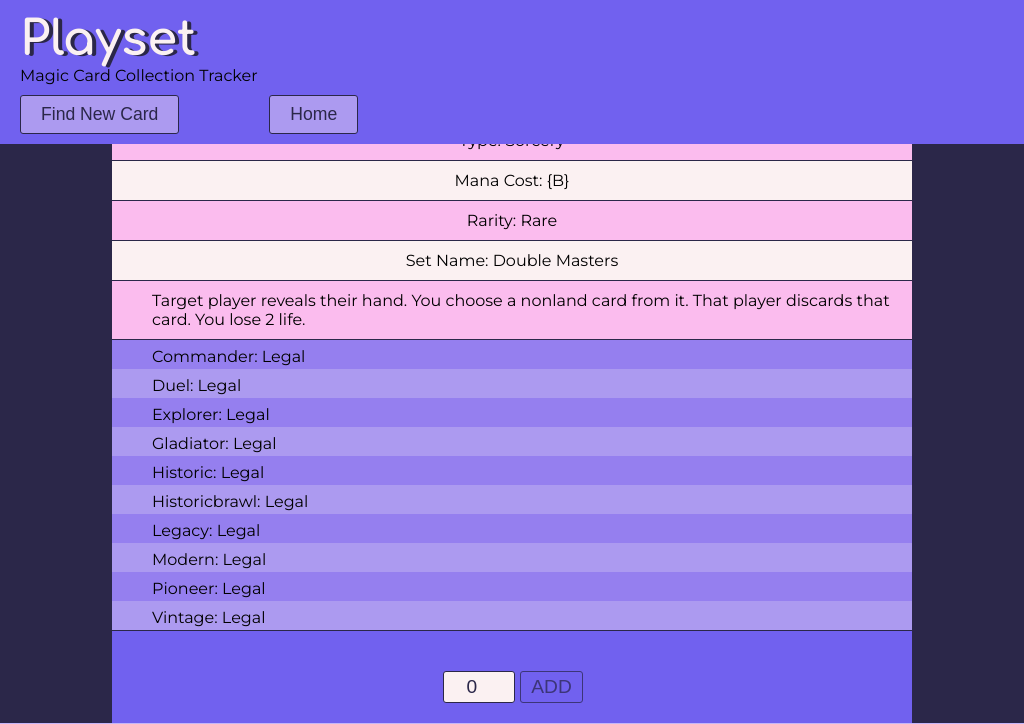
Test: Card details page › Should delete card from collection on card details page
The image size is (1024, 724).
(page scrolled)
Type "1" into the number field with class "add-card-input" at [479, 687], box [443,671,515,703]
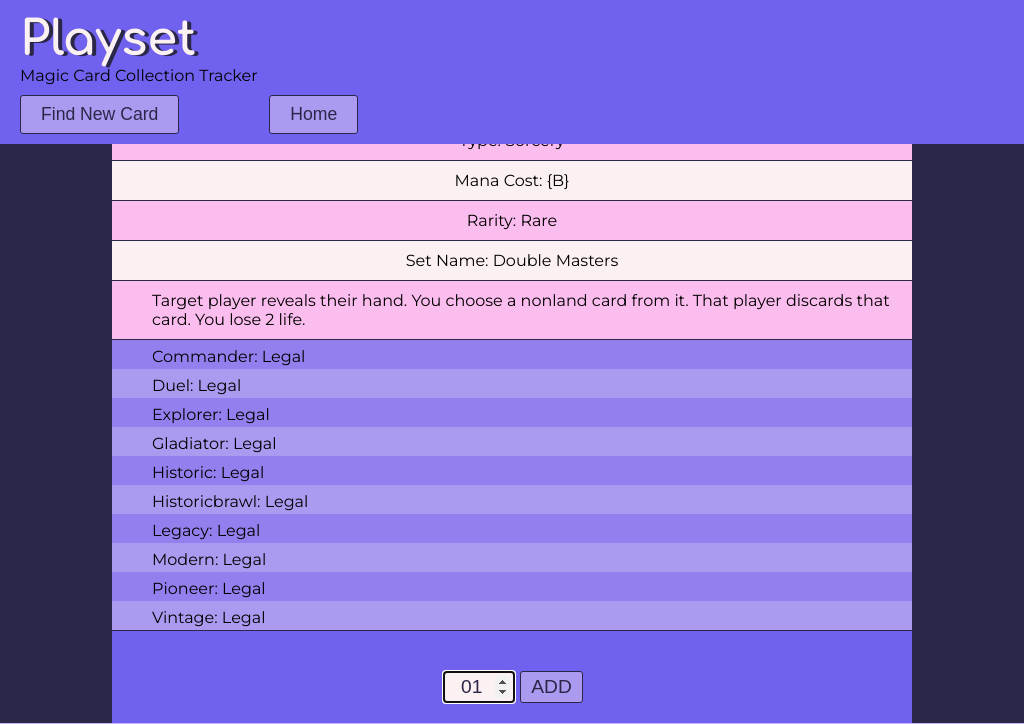
Click the button with class "add-card-btn" at [552, 687], box [520,671,583,703]
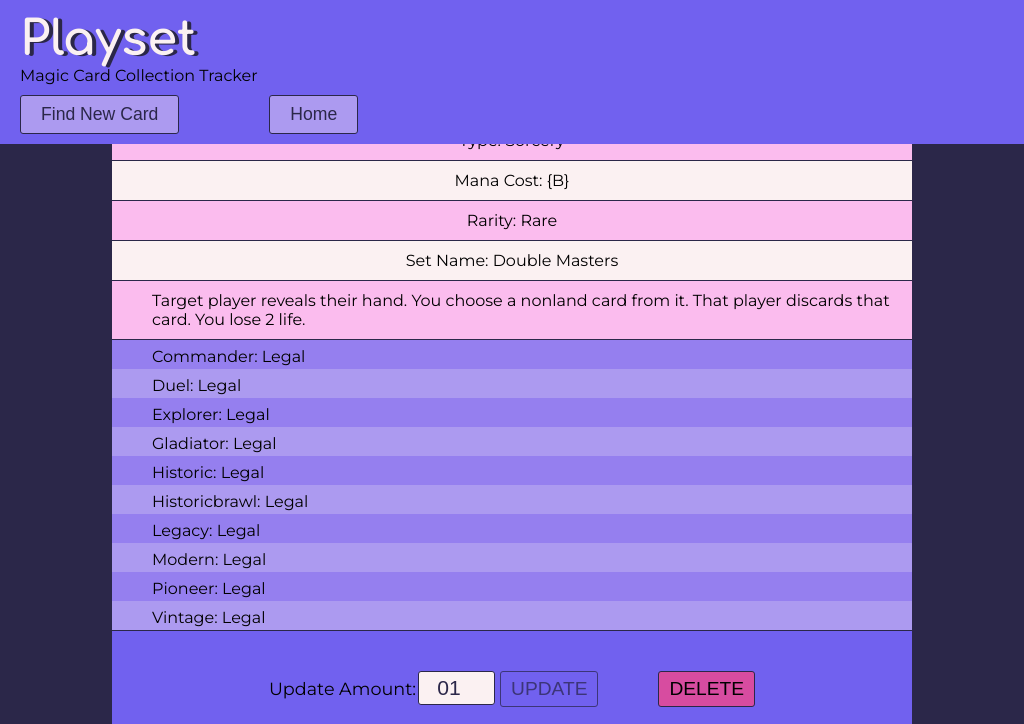
Click the button with class "delete-btn" at [707, 689], box [658,671,755,707]
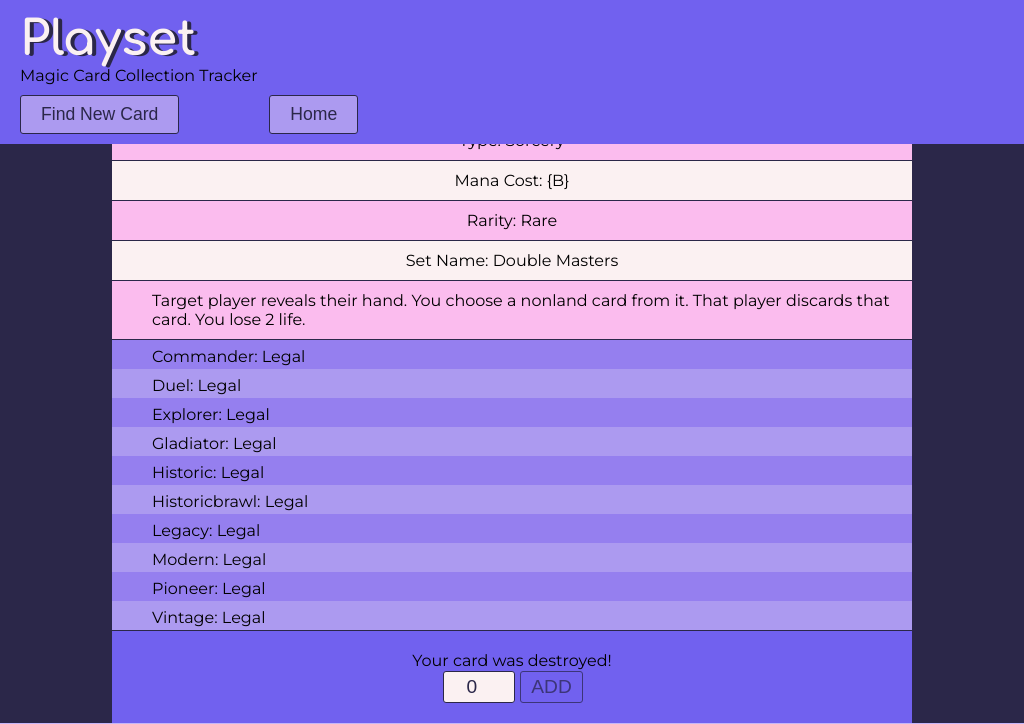
Check: the button "ADD" is shown, box [520,671,583,703]
